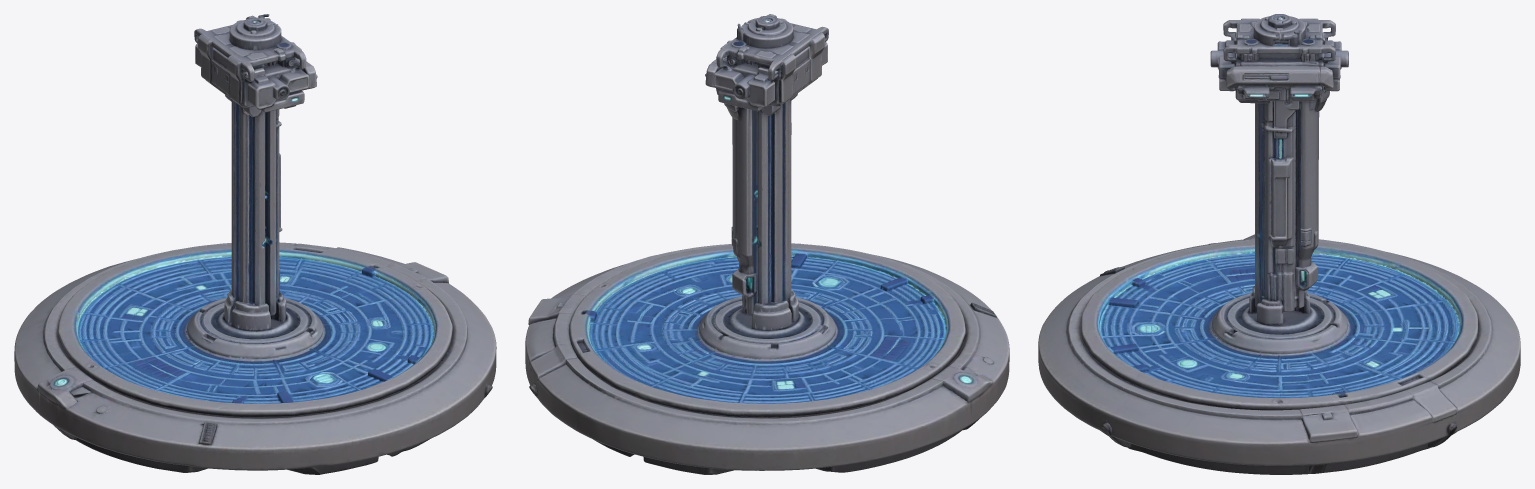
File: elevator-platform.glb
3 renders of one model, left to right at view 1: azimuth 30°, elevation 25°; view 2: azimuth 150°, elevation 25°; view 3: azimuth 270°, elevation 25°, orthographic.
Parts seen in each view (by area): view 1: tripo_node_d39a85d9-4539-4685-9764-7868e200442f; view 2: tripo_node_d39a85d9-4539-4685-9764-7868e200442f; view 3: tripo_node_d39a85d9-4539-4685-9764-7868e200442f.
Boxes of the visible parts, x1=… form: tripo_node_d39a85d9-4539-4685-9764-7868e200442f: x1=14, y1=14, x2=496, y2=474; tripo_node_d39a85d9-4539-4685-9764-7868e200442f: x1=525, y1=14, x2=1009, y2=474; tripo_node_d39a85d9-4539-4685-9764-7868e200442f: x1=1038, y1=14, x2=1520, y2=474.
Size of the model in its own units: 0.9797 by 0.818 by 0.9775.
Materials: 1 (1 with a texture image).
